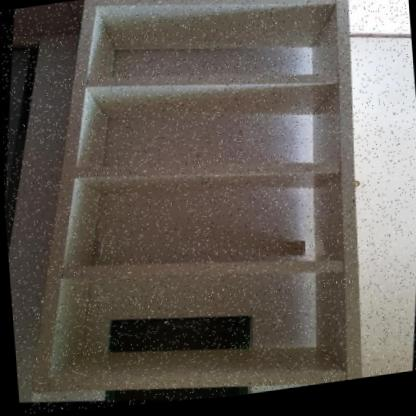Shelf: (0, 0, 414, 416)
